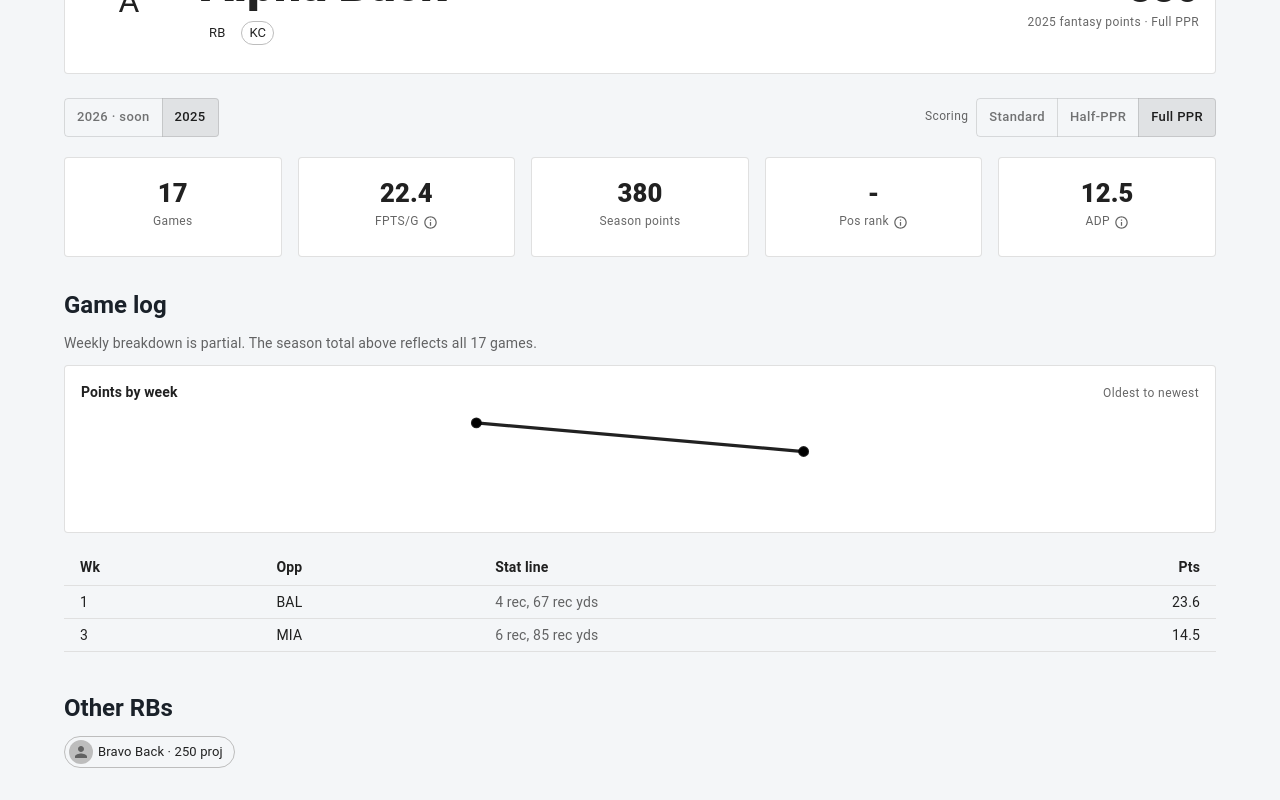
Scenario: preserves Draft origin and league context through a related-player profile
The width and height of the screenshot is (1280, 800).
(page scrolled)
Click the link "Bravo Back · 250 proj": [149, 752] box [64,736,235,768]
(page scrolled)
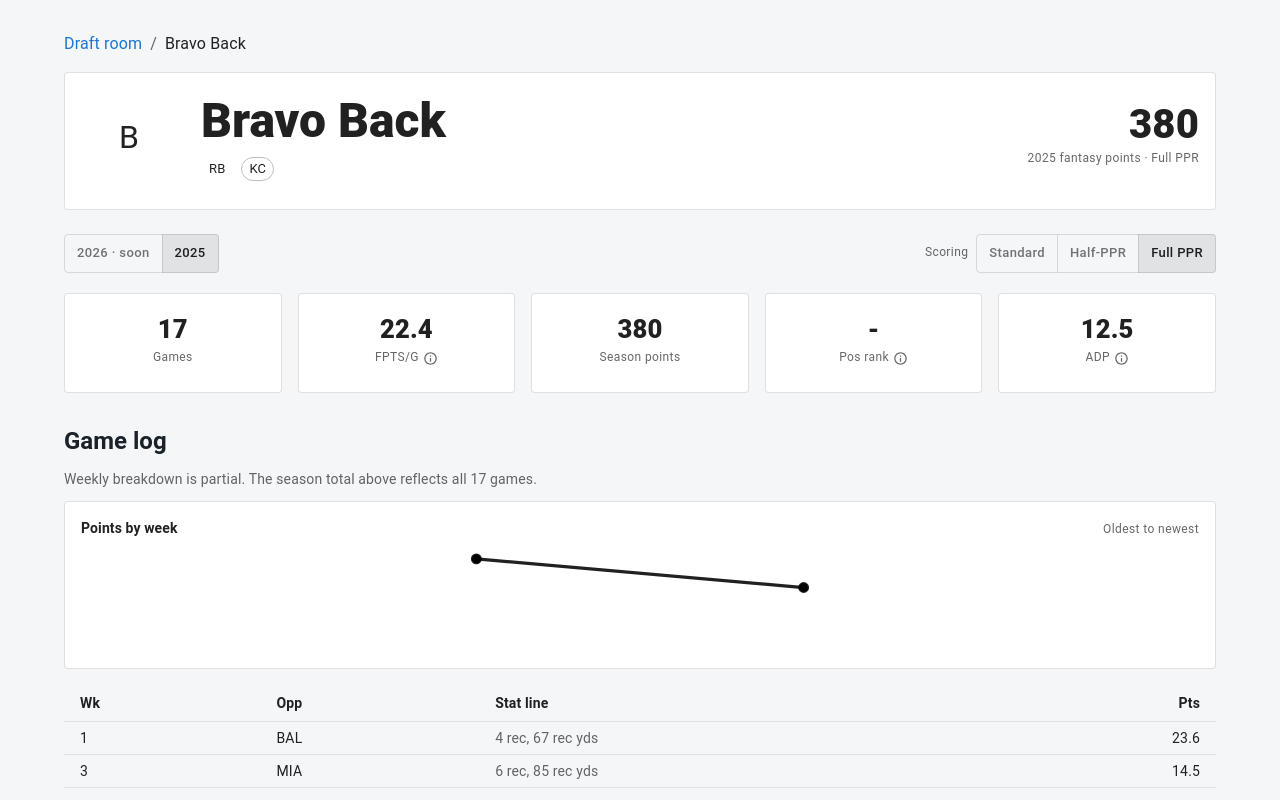
Expected: the link "Draft room" is shown, [64,34,142,53]
Now the heading "Bravo Back" is shown, box [201,92,446,149]
